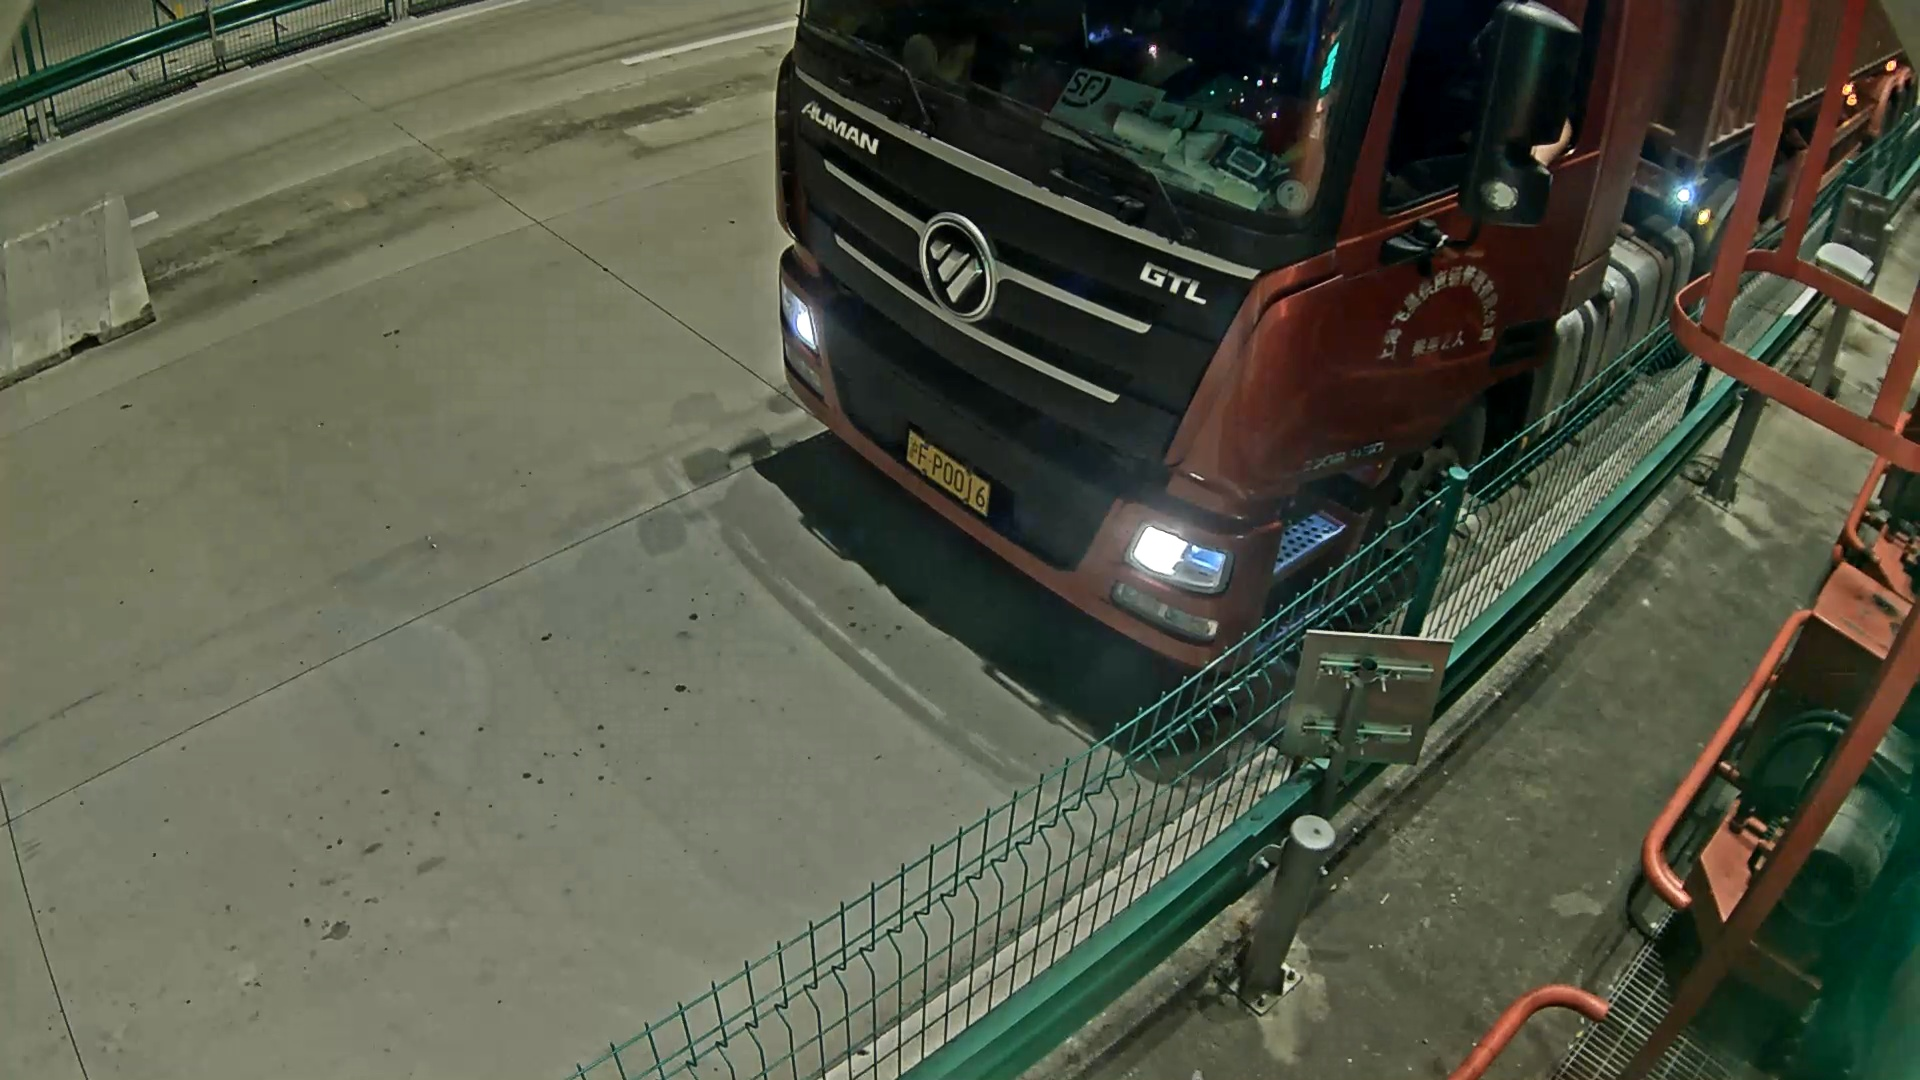head: (758, 18, 1458, 698)
plate: (897, 422, 1025, 539)
